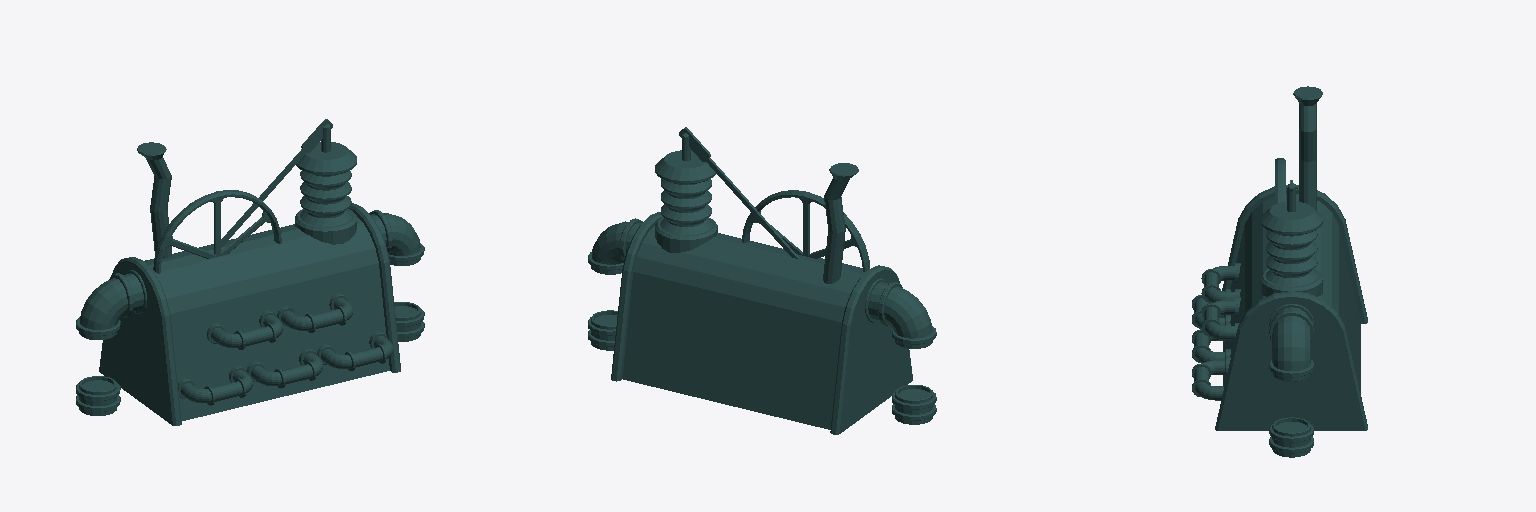
File: PumpTemplate.obj
3 renders of one model, left to right at view 1: azimuth 30°, elevation 25°; view 2: azimuth 150°, elevation 25°; view 3: azimuth 270°, elevation 25°, orthographic.
Visible parts, largest first — view 1: PumpTemplate WaterPumpPARTS_TOENGINE; view 2: PumpTemplate WaterPumpPARTS_TOENGINE; view 3: PumpTemplate WaterPumpPARTS_TOENGINE.
Part boxes in pixels (bbox=[...]): PumpTemplate WaterPumpPARTS_TOENGINE: bbox=[76, 119, 424, 425]; PumpTemplate WaterPumpPARTS_TOENGINE: bbox=[588, 127, 936, 434]; PumpTemplate WaterPumpPARTS_TOENGINE: bbox=[1192, 86, 1367, 457].
Bounding box in the file's own units: 14.35 × 9.54 × 6.4.